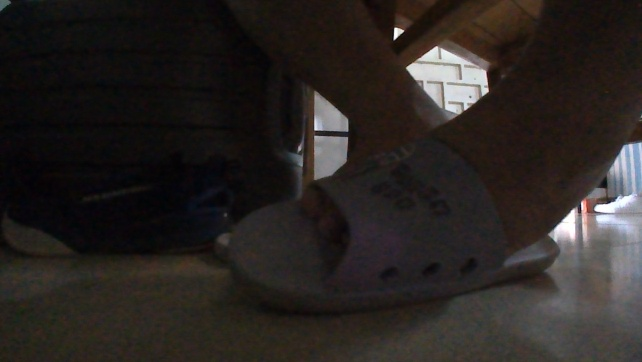door_anno: (222, 133, 564, 317)
